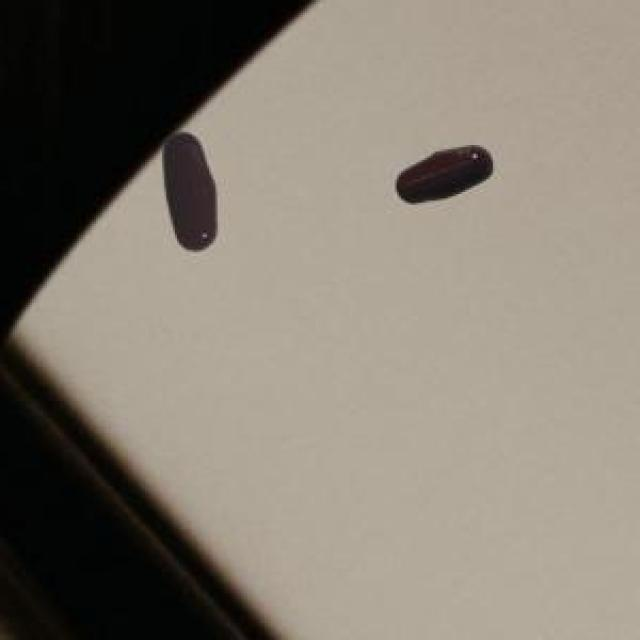DayZinc: (152, 124, 228, 274), (389, 137, 510, 226)
